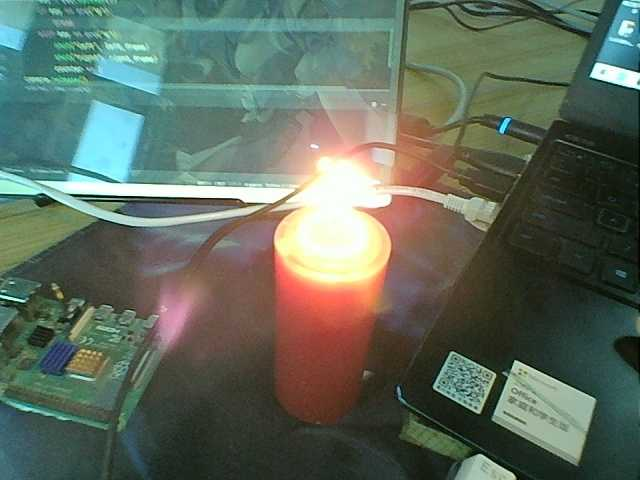candle: (270, 257, 381, 427)
fire: (308, 158, 377, 266)
